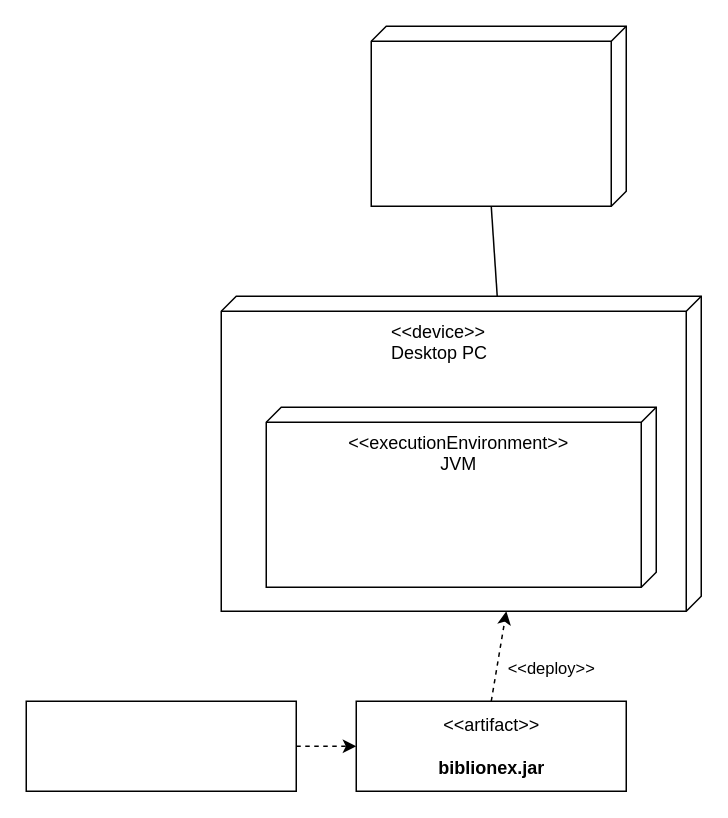
This 728x818 diagram has some shape labels left out. The centre of each missing label's shape, as x and y in pixels:
<<artifact>> mysql-connector-java.jar: point (160, 745)
<<device>> MySQL Server: point (498, 115)
